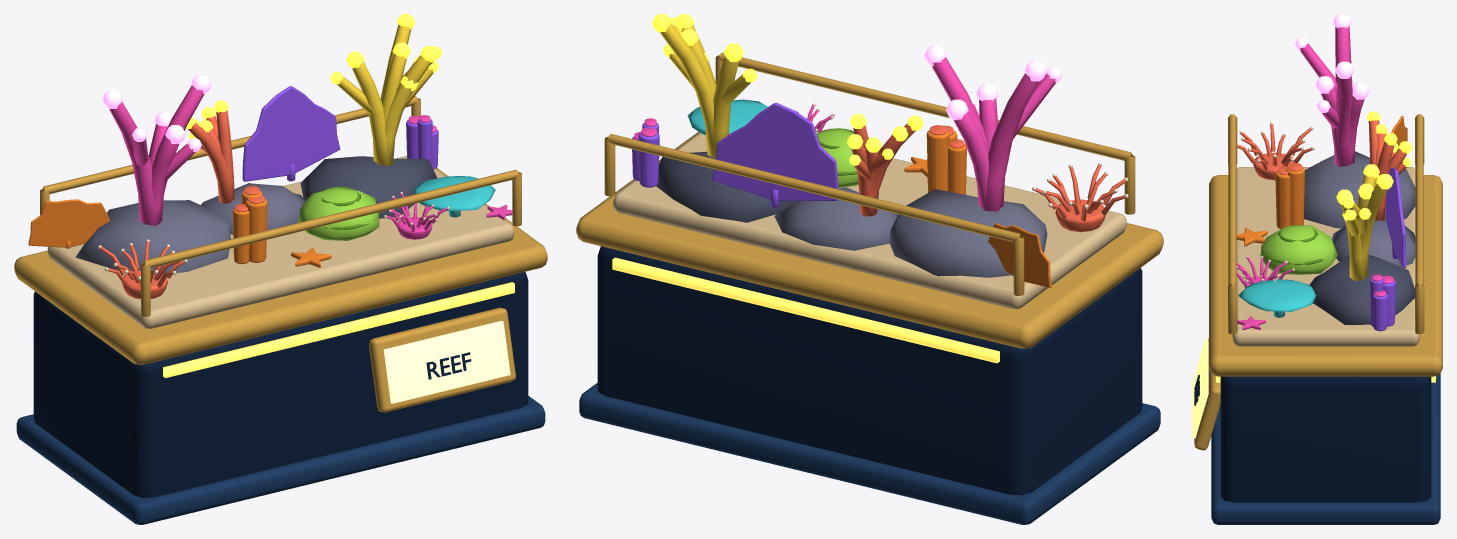
File: aqua_coral_display.glb
3 views of the same model, side by side, from view 1: azimuth 30°, elevation 25°; view 2: azimuth 150°, elevation 25°; view 3: azimuth 270°, elevation 25° (orthographic). The views are drawn at different scales.
Visible parts, largest first — view 1: CoralDisplay; view 2: CoralDisplay; view 3: CoralDisplay.
Boxes of the visible parts, x1,y1,x2,y2 form: CoralDisplay: [14, 14, 547, 524]; CoralDisplay: [576, 14, 1163, 524]; CoralDisplay: [1192, 14, 1442, 524].
Size of the model in its own units: 1.91 by 1.65 by 1.07.
